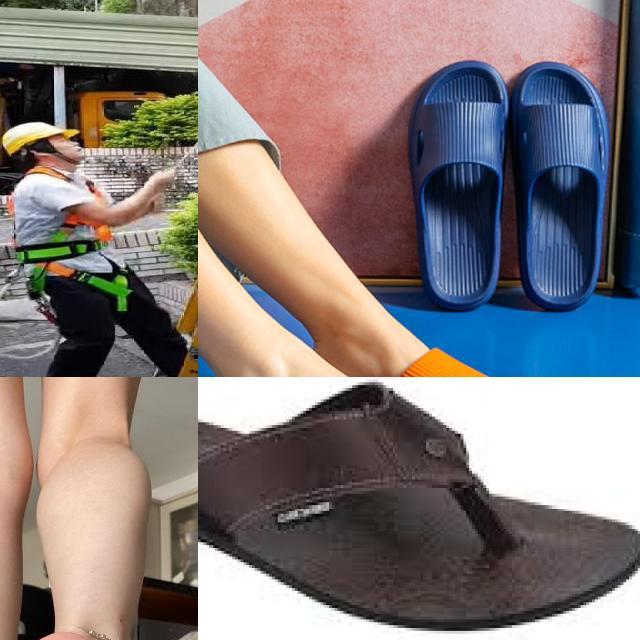Harness: (9, 165, 132, 318)
Sandals: (198, 377, 640, 640), (198, 307, 557, 377)
